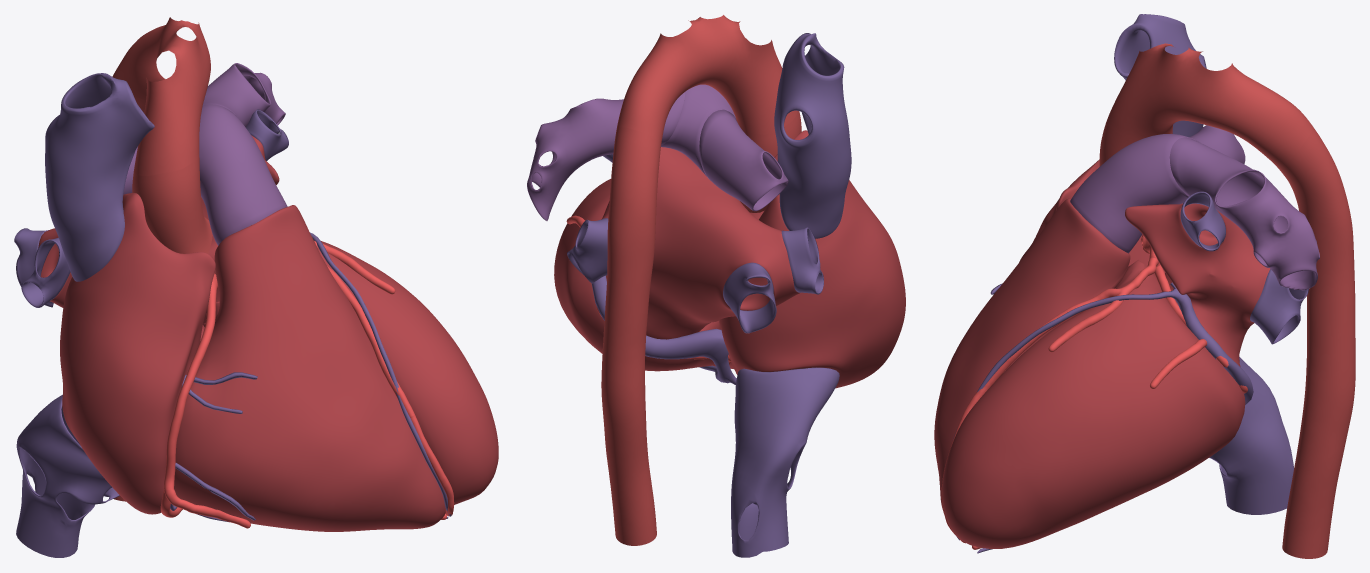
Rendered from heart.glb.
3 renders of one model, left to right at view 1: azimuth 30°, elevation 25°; view 2: azimuth 150°, elevation 25°; view 3: azimuth 270°, elevation 25°, orthographic. The views are drawn at different scales.
Visible parts, largest first — view 1: heart_right_ventricle, right_cardiac_atrium, heart_left_ventricle, superior_vena_cava, inferior_vena_cava_a, aortic_arch, pulmonary_trunk, ascending_aorta, pulmonary_artery_L, right_coronary_artery, left_anterior_descending_artery, pulmonary_vein_R_sup (+7 smaller); view 2: right_cardiac_atrium, descending_aorta_a, left_cardiac_atrium, inferior_vena_cava_a, aortic_arch, superior_vena_cava, pulmonary_artery_L, pulmonary_artery_R, heart_left_ventricle, coronary_sinus, pulmonary_trunk, pulmonary_vein_R_inf (+3 smaller); view 3: heart_left_ventricle, descending_aorta_a, heart_right_ventricle, aortic_arch, left_cardiac_atrium, pulmonary_artery_L, inferior_vena_cava_a, pulmonary_trunk, superior_vena_cava, pulmonary_vein_L_inf, left_anterior_descending_artery, coronary_sinus (+8 smaller).
Boxes of the visible parts, x1,y1,x2,y2 form: heart_right_ventricle: (174, 205, 445, 531); right_cardiac_atrium: (60, 193, 215, 514); heart_left_ventricle: (203, 241, 498, 504); superior_vena_cava: (45, 73, 154, 281); inferior_vena_cava_a: (16, 394, 119, 557); aortic_arch: (119, 17, 210, 175); pulmonary_trunk: (199, 104, 287, 245); ascending_aorta: (132, 157, 212, 253); pulmonary_artery_L: (203, 63, 285, 127); right_coronary_artery: (160, 273, 218, 517); left_anterior_descending_artery: (327, 266, 454, 516); pulmonary_vein_R_sup: (21, 237, 70, 307); right_cardiac_atrium: (719, 130, 905, 388); descending_aorta_a: (601, 127, 660, 545); left_cardiac_atrium: (601, 147, 800, 339); inferior_vena_cava_a: (731, 367, 839, 557); aortic_arch: (616, 15, 797, 144); superior_vena_cava: (774, 33, 851, 238); pulmonary_artery_L: (527, 92, 684, 220); pulmonary_artery_R: (699, 109, 788, 211); heart_left_ventricle: (554, 179, 720, 371); coronary_sinus: (591, 275, 736, 384); pulmonary_trunk: (661, 84, 735, 176); pulmonary_vein_R_inf: (723, 262, 776, 333); heart_left_ventricle: (942, 260, 1245, 548); descending_aorta_a: (1277, 126, 1355, 558); heart_right_ventricle: (934, 198, 1130, 514); aortic_arch: (1106, 43, 1312, 167); left_cardiac_atrium: (1125, 203, 1269, 366); pulmonary_artery_L: (1169, 137, 1319, 290); inferior_vena_cava_a: (1209, 357, 1293, 514); pulmonary_trunk: (1070, 133, 1200, 253); superior_vena_cava: (1114, 14, 1206, 137); pulmonary_vein_L_inf: (1250, 269, 1308, 344); left_anterior_descending_artery: (941, 257, 1157, 543); coronary_sinus: (1169, 282, 1253, 404).
Bounding box in the file's own units: 1.24 × 1.7 × 1.29.
